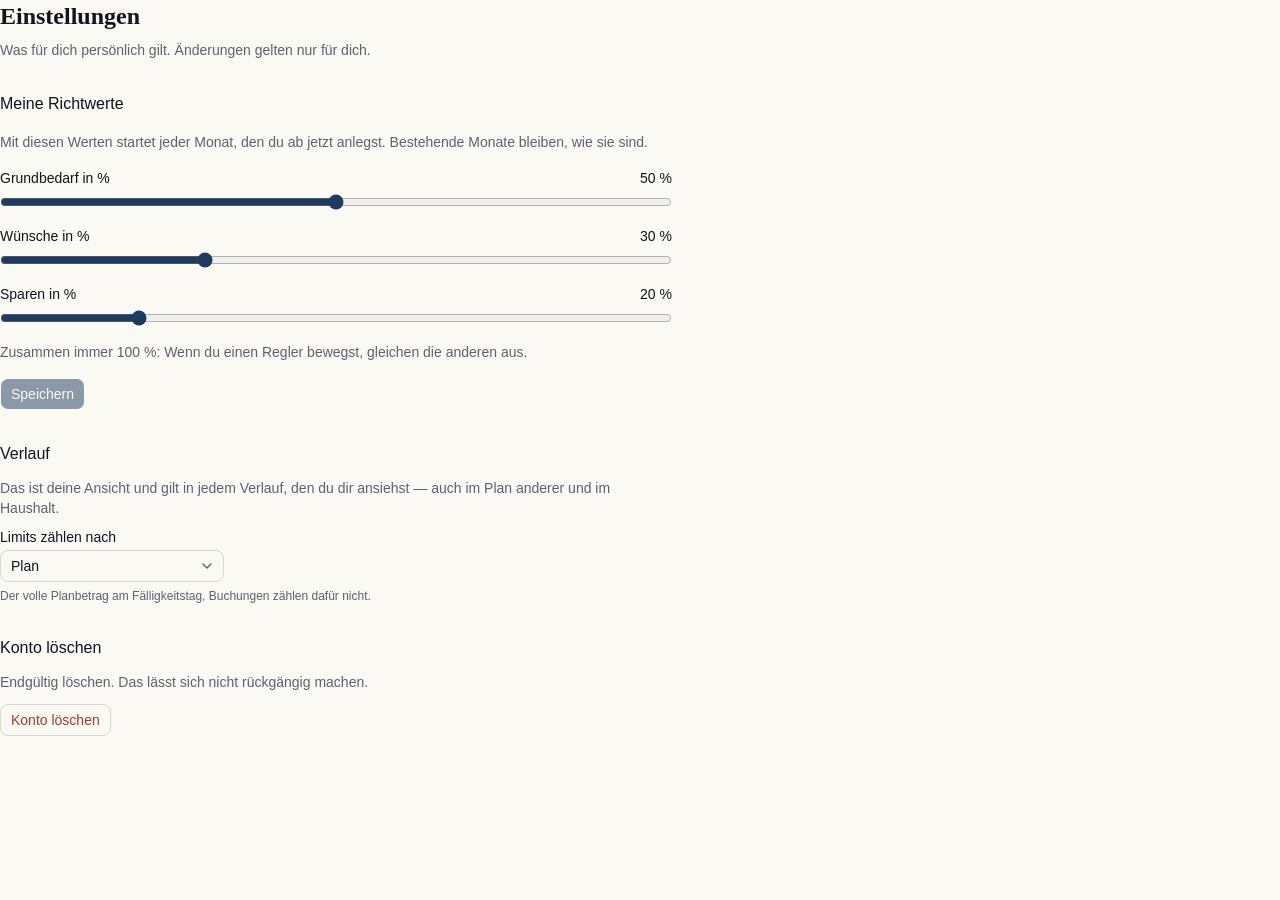
Scenario: deleting the account › the last admin sees why deletion is refused, and the dialog stays open
The image size is (1280, 900).
Click the button "Konto löschen". click: x=55, y=720
box: [0,704,111,736]
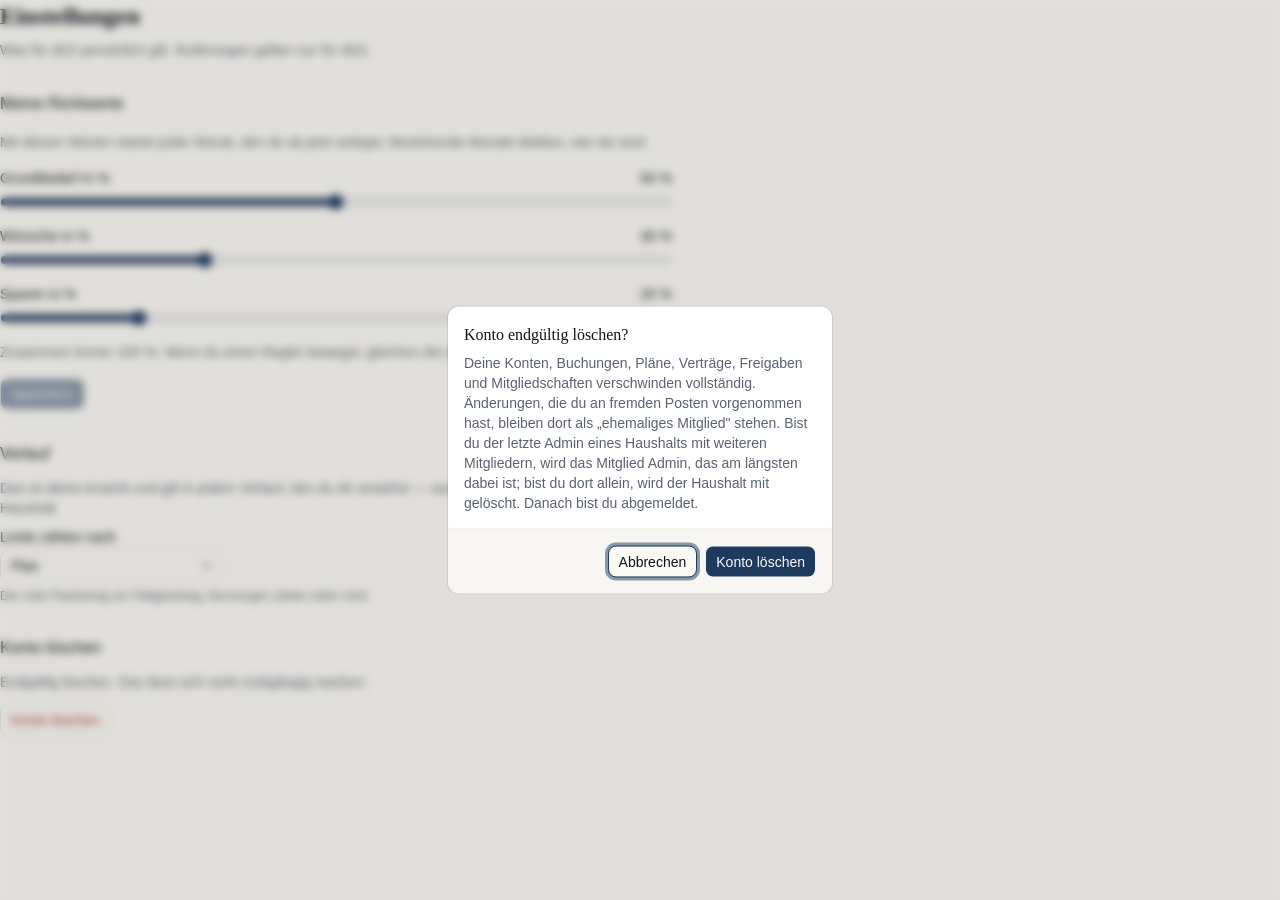
Click the button "Konto löschen". click: x=761, y=562
box: [705,546,816,578]
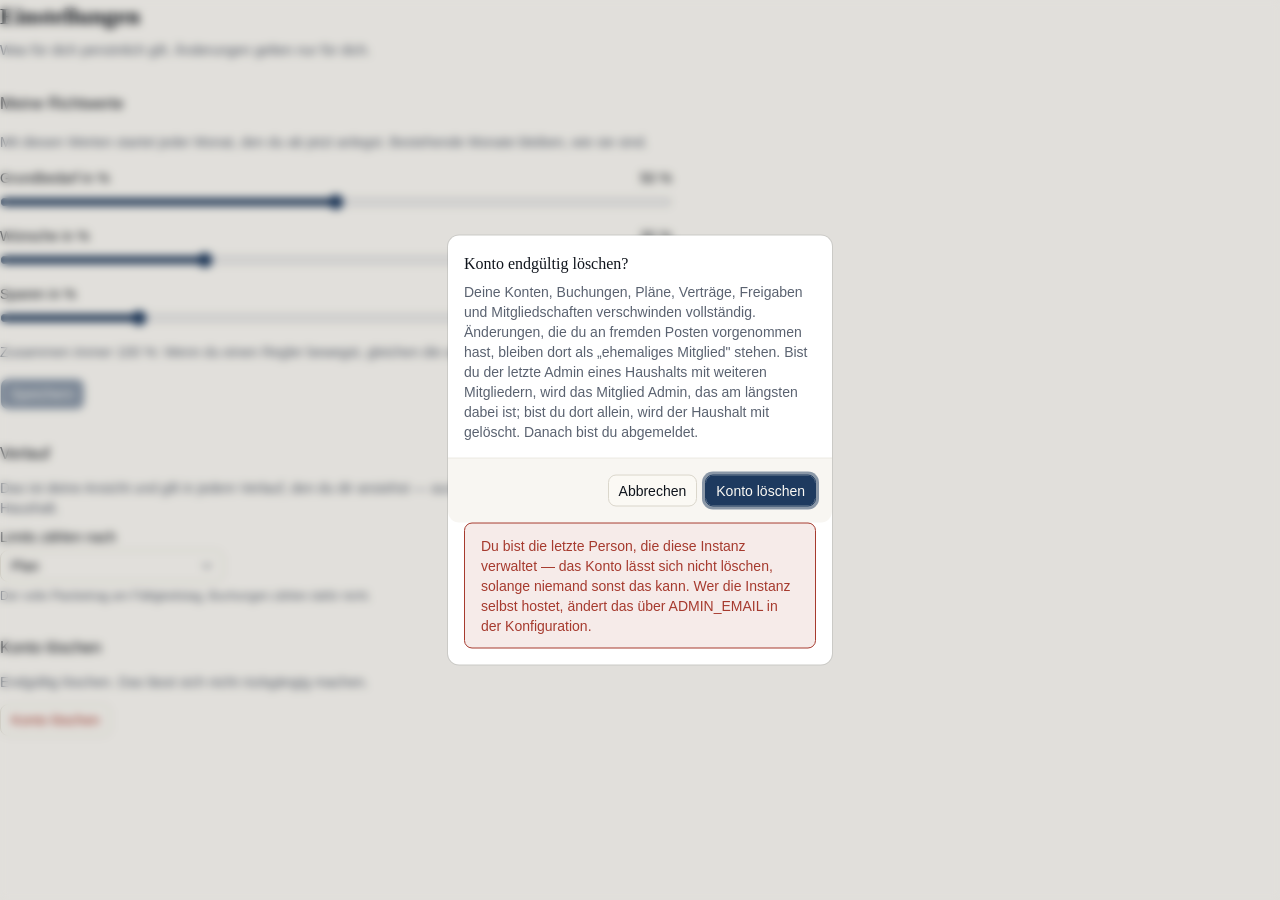
Expected: the dialog is shown, [448,236,832,664]
Expected: the text "Du bist die letzte Person, die diese Instanz verwaltet — das Konto lässt sich nicht löschen, solange niemand sonst das k" is shown, [481,538,790,634]
